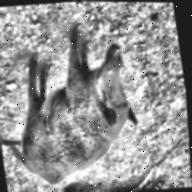boar: (0, 19, 147, 191)
